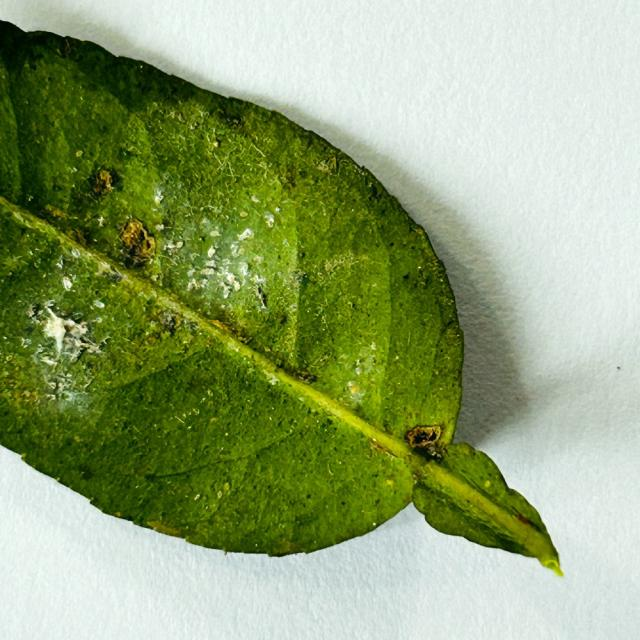Bacterial_Blight: (107, 210, 159, 281), (116, 217, 157, 266), (39, 308, 83, 353), (403, 424, 443, 454), (368, 436, 398, 459), (157, 309, 181, 336), (94, 169, 114, 193), (543, 557, 562, 575), (296, 369, 318, 384), (321, 155, 338, 174), (213, 137, 223, 148)
Lemon: (0, 21, 562, 577)
